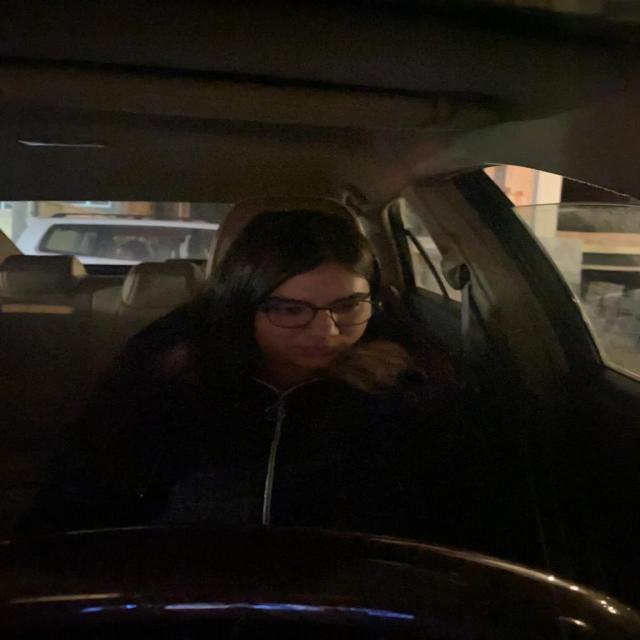person: (210, 200, 410, 378)
